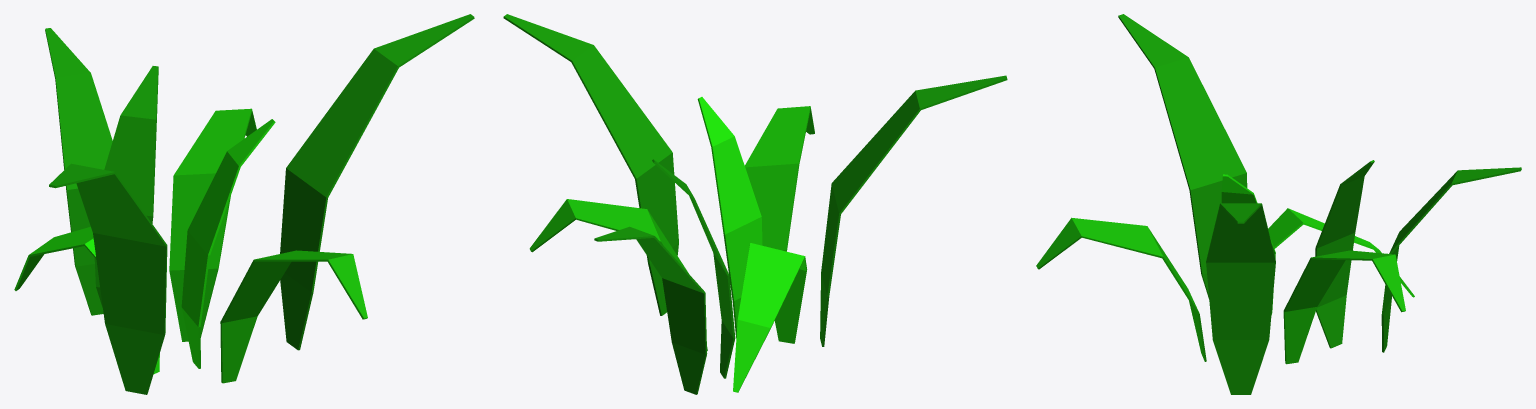
The model's file is grass_1-1 (1).fbx.
3 renders of one model, left to right at view 1: azimuth 30°, elevation 25°; view 2: azimuth 150°, elevation 25°; view 3: azimuth 270°, elevation 25°, orthographic. The views are drawn at different scales.
Visible parts, largest first — view 1: Plane.002; view 2: Plane.002; view 3: Plane.002.
Part boxes in pixels (<box>): Plane.002: <box>14,14,474,394</box>; Plane.002: <box>503,14,1007,394</box>; Plane.002: <box>1036,14,1521,394</box>.
Bounding box in the file's own units: 1743 × 978 × 1720.
1 material, 1 textured.
